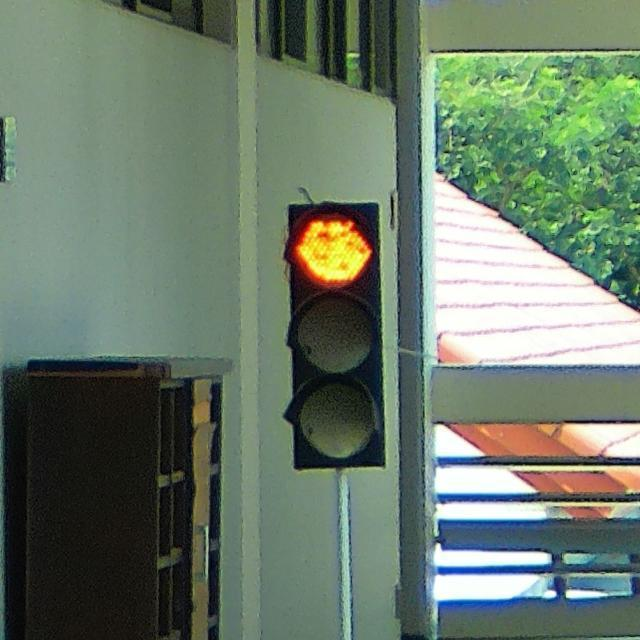yellow_light: (278, 187, 398, 482)
